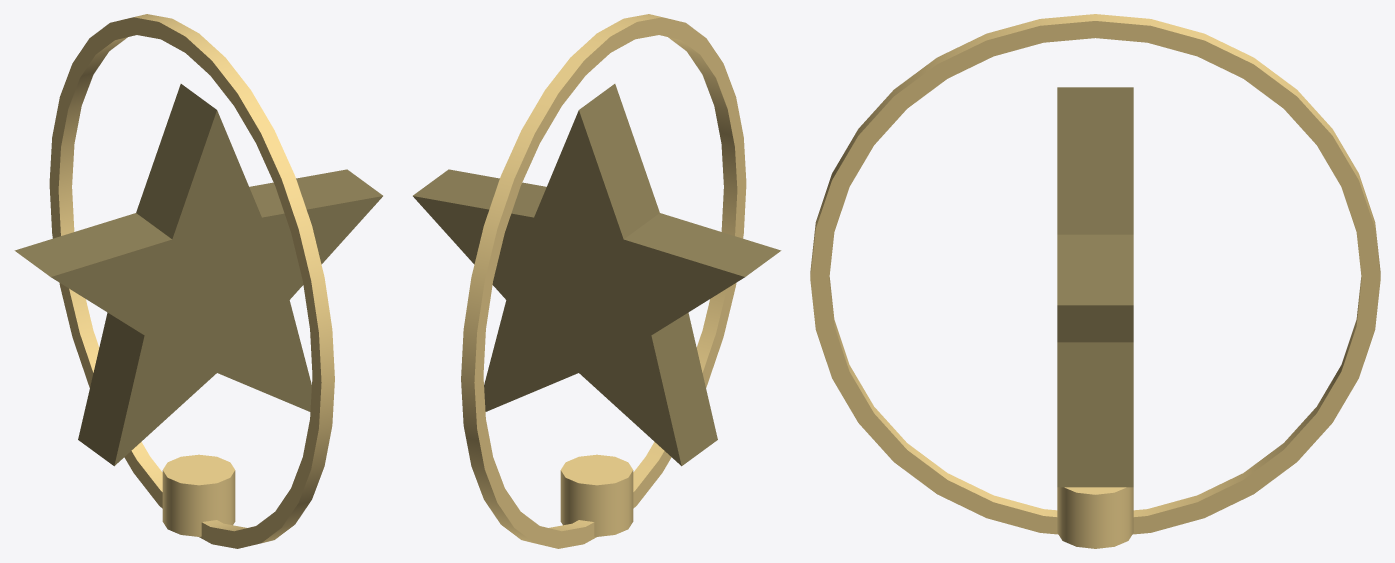
File: bob_star.fbx
3 renders of one model, left to right at view 1: azimuth 30°, elevation 25°; view 2: azimuth 150°, elevation 25°; view 3: azimuth 270°, elevation 25°, orthographic. The views are drawn at different scales.
Parts seen in each view (by area): view 1: glow_gold_1, gold_1; view 2: glow_gold_1, gold_1; view 3: gold_1, glow_gold_1.
Boxes of the visible parts, x1,y1,x2,y2 form: glow_gold_1: (14,84,382,466); gold_1: (49,14,334,548); glow_gold_1: (413,84,781,466); gold_1: (461,14,746,548); gold_1: (810,14,1380,548); glow_gold_1: (1057,87,1133,487).
Size of the model in its own units: 0.0137 by 0.0194 by 0.0194.
